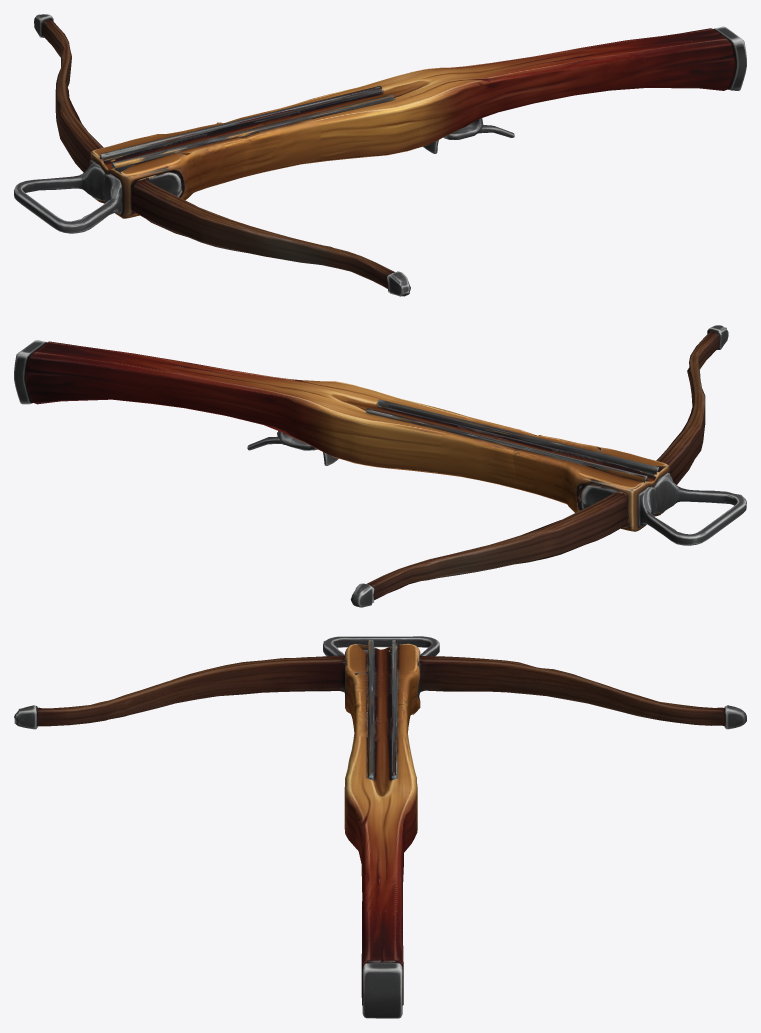
Rendered from Crossbow.glb.
3 renders of one model, top to bottom at view 1: azimuth 30°, elevation 25°; view 2: azimuth 150°, elevation 25°; view 3: azimuth 270°, elevation 25°, orthographic.
Size of the model in its own units: 0.9531 by 0.1016 by 0.8691.
Materials: 1 (1 with a texture image).
